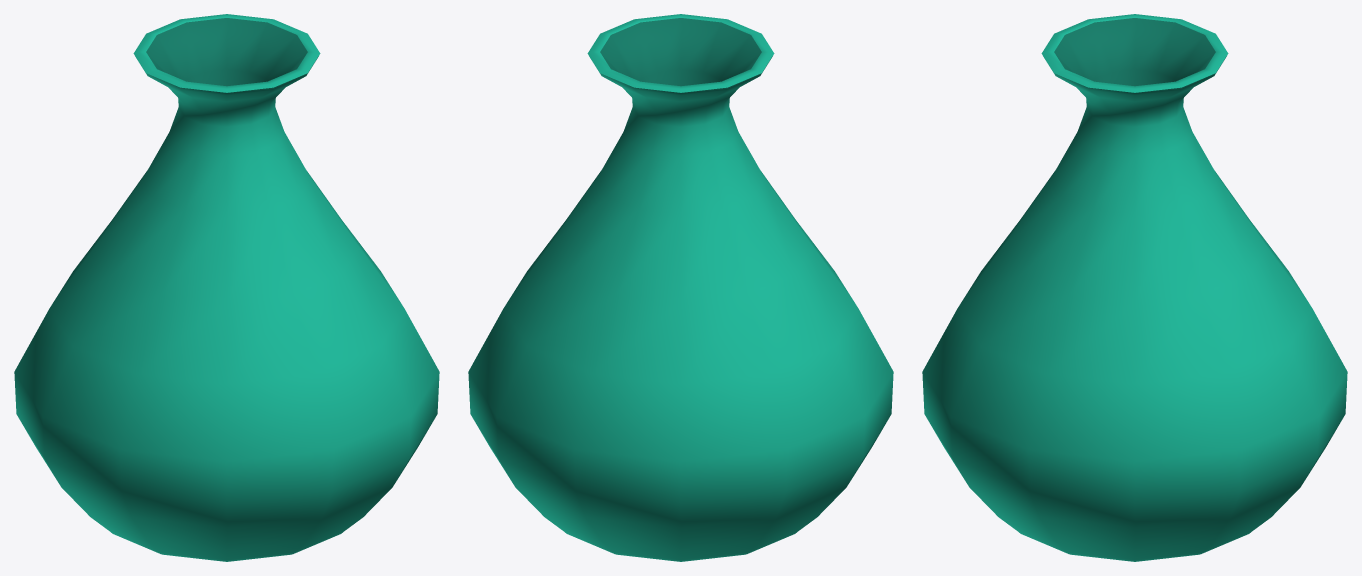
Rendered from Vase-1.fbx.
3 views of the same model, side by side, from view 1: azimuth 30°, elevation 25°; view 2: azimuth 150°, elevation 25°; view 3: azimuth 270°, elevation 25° (orthographic).
Parts seen in each view (by area): view 1: Vase-1; view 2: Vase-1; view 3: Vase-1.
Boxes of the visible parts, x1,y1,x2,y2 form: Vase-1: [14, 14, 439, 561]; Vase-1: [468, 14, 893, 561]; Vase-1: [922, 14, 1347, 561].
Size of the model in its own units: 0.285 by 0.3379 by 0.285.
